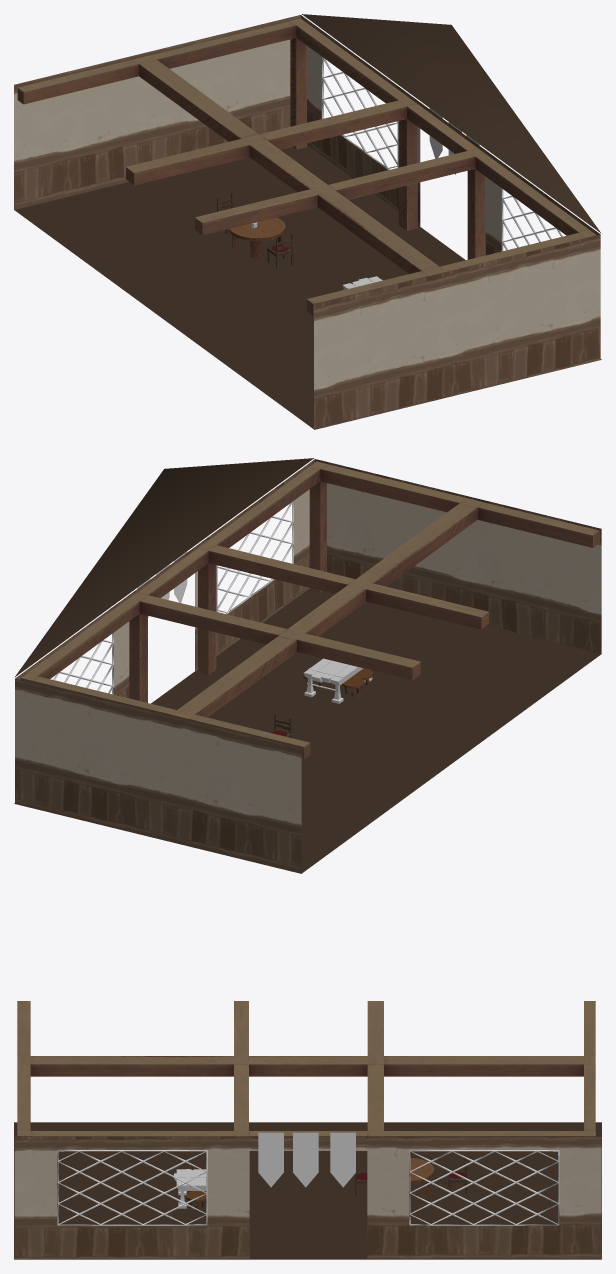
The model's file is taverndeneme.fbx.
The picture shows the model from 3 angles, top to bottom: view 1: azimuth 30°, elevation 25°; view 2: azimuth 150°, elevation 25°; view 3: azimuth 270°, elevation 25°; orthographic projection. The views are drawn at different scales.
Visible parts, largest first — view 1: Plane, zemin, duvartahtalp, zemin.001, pencere.001, Cylinder.001, pencere.002; view 2: Plane, zemin, duvartahtalp, zemin.001, pencere.002, Cube.001, pencere.001; view 3: Plane, zemin, duvartahtalp, pencere.001, pencere.002, Plane.003, Plane.002, Plane.001, Cube.001, Cylinder.001.
Boxes of the visible parts, x1=… form: Plane: x1=14, y1=15, x2=600, y2=429; zemin: x1=14, y1=145, x2=601, y2=429; duvartahtalp: x1=17, y1=18, x2=596, y2=316; zemin.001: x1=302, y1=14, x2=601, y2=233; pencere.001: x1=321, y1=57, x2=398, y2=169; Cylinder.001: x1=229, y1=217, x2=285, y2=258; pencere.002: x1=501, y1=188, x2=562, y2=251; Plane: x1=15, y1=459, x2=601, y2=873; zemin: x1=14, y1=588, x2=601, y2=873; duvartahtalp: x1=21, y1=461, x2=599, y2=759; zemin.001: x1=14, y1=458, x2=313, y2=677; pencere.002: x1=216, y1=501, x2=293, y2=614; Cube.001: x1=304, y1=658, x2=372, y2=703; pencere.001: x1=53, y1=632, x2=113, y2=694; Plane: x1=14, y1=1136, x2=601, y2=1258; zemin: x1=14, y1=1122, x2=601, y2=1259; duvartahtalp: x1=17, y1=1001, x2=595, y2=1136; pencere.001: x1=409, y1=1150, x2=559, y2=1225; pencere.002: x1=57, y1=1150, x2=207, y2=1225; Plane.003: x1=330, y1=1132, x2=355, y2=1187; Plane.002: x1=293, y1=1132, x2=318, y2=1187; Plane.001: x1=258, y1=1132, x2=283, y2=1187; Cube.001: x1=174, y1=1169, x2=206, y2=1208; Cylinder.001: x1=410, y1=1157, x2=434, y2=1197.
Size of the model in its own units: 5569 by 4133 by 9997.
